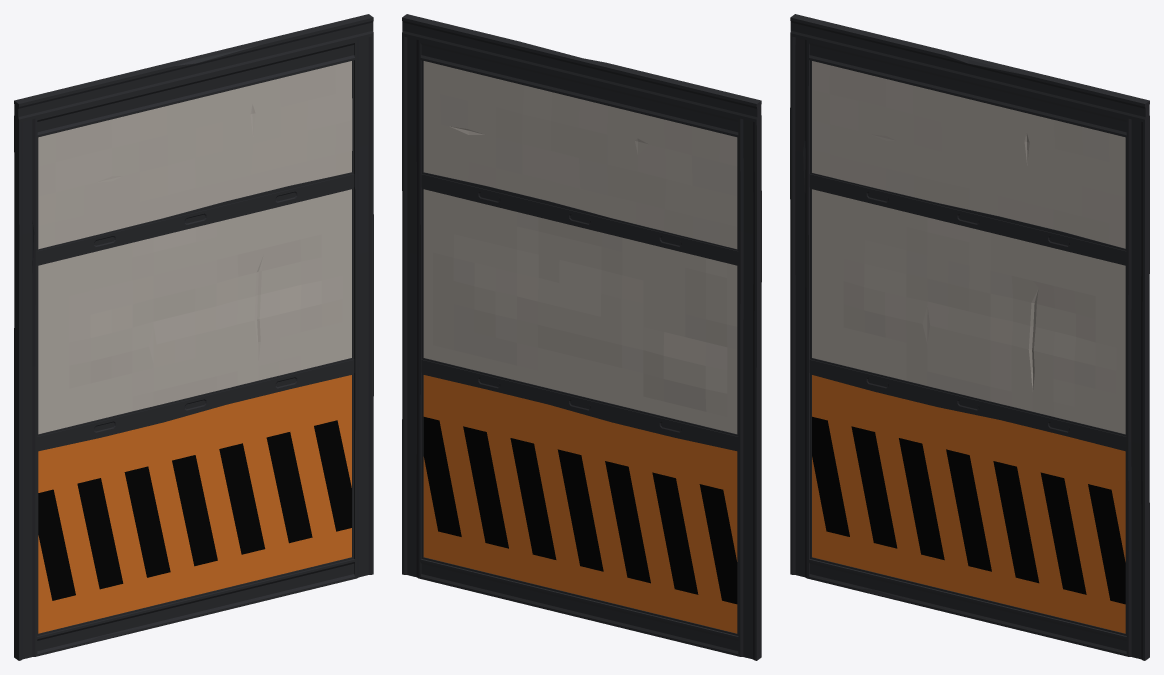
Rendered from SM_Wall_02.gltf.
3 views of the same model, side by side, from view 1: azimuth 30°, elevation 25°; view 2: azimuth 150°, elevation 25°; view 3: azimuth 330°, elevation 25° (orthographic).
Visible parts, largest first — view 1: SM_Wall_02; view 2: SM_Wall_02; view 3: SM_Wall_02.
Boxes of the visible parts, left/top/right/bottom form: SM_Wall_02: left=14, top=14, right=373, bottom=660; SM_Wall_02: left=402, top=14, right=761, bottom=660; SM_Wall_02: left=790, top=14, right=1149, bottom=660.
Bounding box in the file's own units: 2 × 3 × 0.05.
